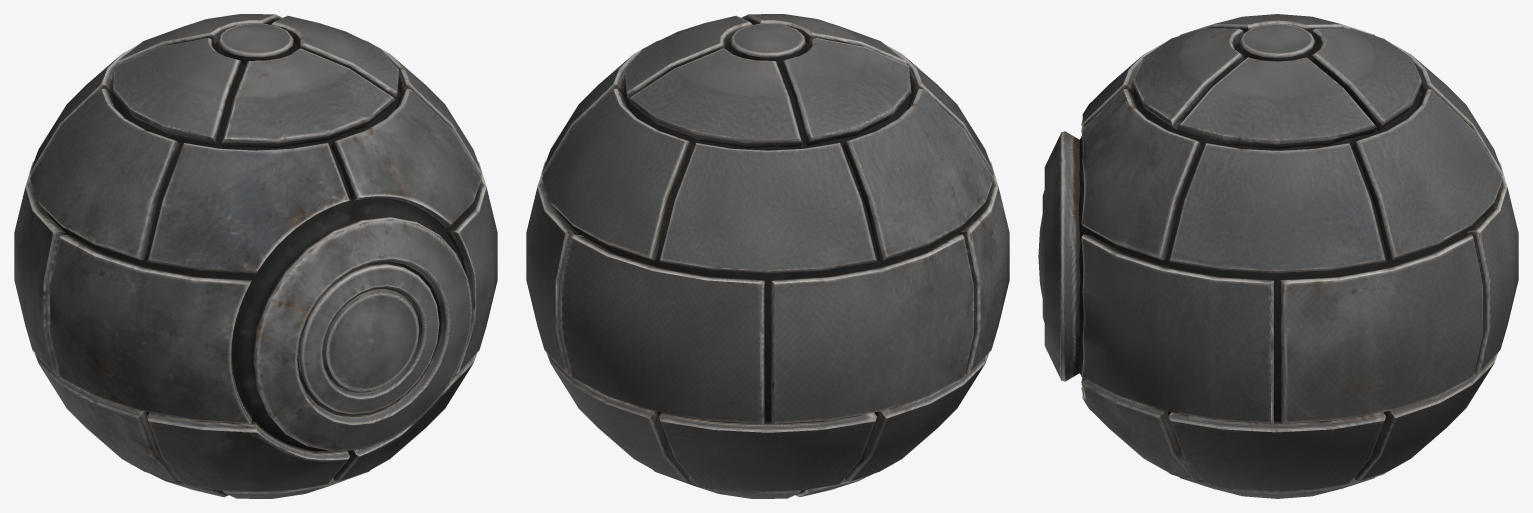
Rendered from esfera-mecanica-v3-tex.glb.
3 renders of one model, left to right at view 1: azimuth 30°, elevation 25°; view 2: azimuth 150°, elevation 25°; view 3: azimuth 270°, elevation 25°, orthographic.
Parts seen in each view (by area): view 1: Plates_Band_Upper, Plates_Band_Equator, Plates_Cap_Upper, Core_Bezel_Outer, Sphere_Core, Core_Rim_Inner, Core_Lens, Hub_Pole_Upper; view 2: Plates_Band_Upper, Plates_Band_Equator, Plates_Cap_Upper, Sphere_Core, Hub_Pole_Upper; view 3: Plates_Band_Upper, Plates_Band_Equator, Plates_Cap_Upper, Core_Bezel_Outer, Sphere_Core, Hub_Pole_Upper.
Part boxes in pixels (x1,y1,x2,y2): Plates_Band_Upper: (30, 40, 481, 491); Plates_Band_Equator: (14, 161, 497, 423); Plates_Cap_Upper: (112, 14, 399, 498); Core_Bezel_Outer: (253, 217, 472, 451); Sphere_Core: (46, 42, 466, 451); Core_Rim_Inner: (298, 263, 439, 414); Core_Lens: (323, 288, 419, 392); Hub_Pole_Upper: (218, 23, 293, 64); Plates_Band_Upper: (542, 40, 993, 491); Plates_Band_Equator: (526, 161, 1009, 423); Plates_Cap_Upper: (624, 14, 911, 498); Sphere_Core: (557, 42, 977, 421); Hub_Pole_Upper: (730, 23, 805, 64); Plates_Band_Upper: (1081, 42, 1502, 491); Plates_Band_Equator: (1081, 136, 1518, 423); Plates_Cap_Upper: (1132, 14, 1422, 498); Core_Bezel_Outer: (1044, 131, 1080, 381); Sphere_Core: (1078, 43, 1486, 421); Hub_Pole_Upper: (1239, 24, 1315, 61).
Size of the model in its own units: 2.09 by 2.1 by 2.08.
Materials: 3 (3 with a texture image).
